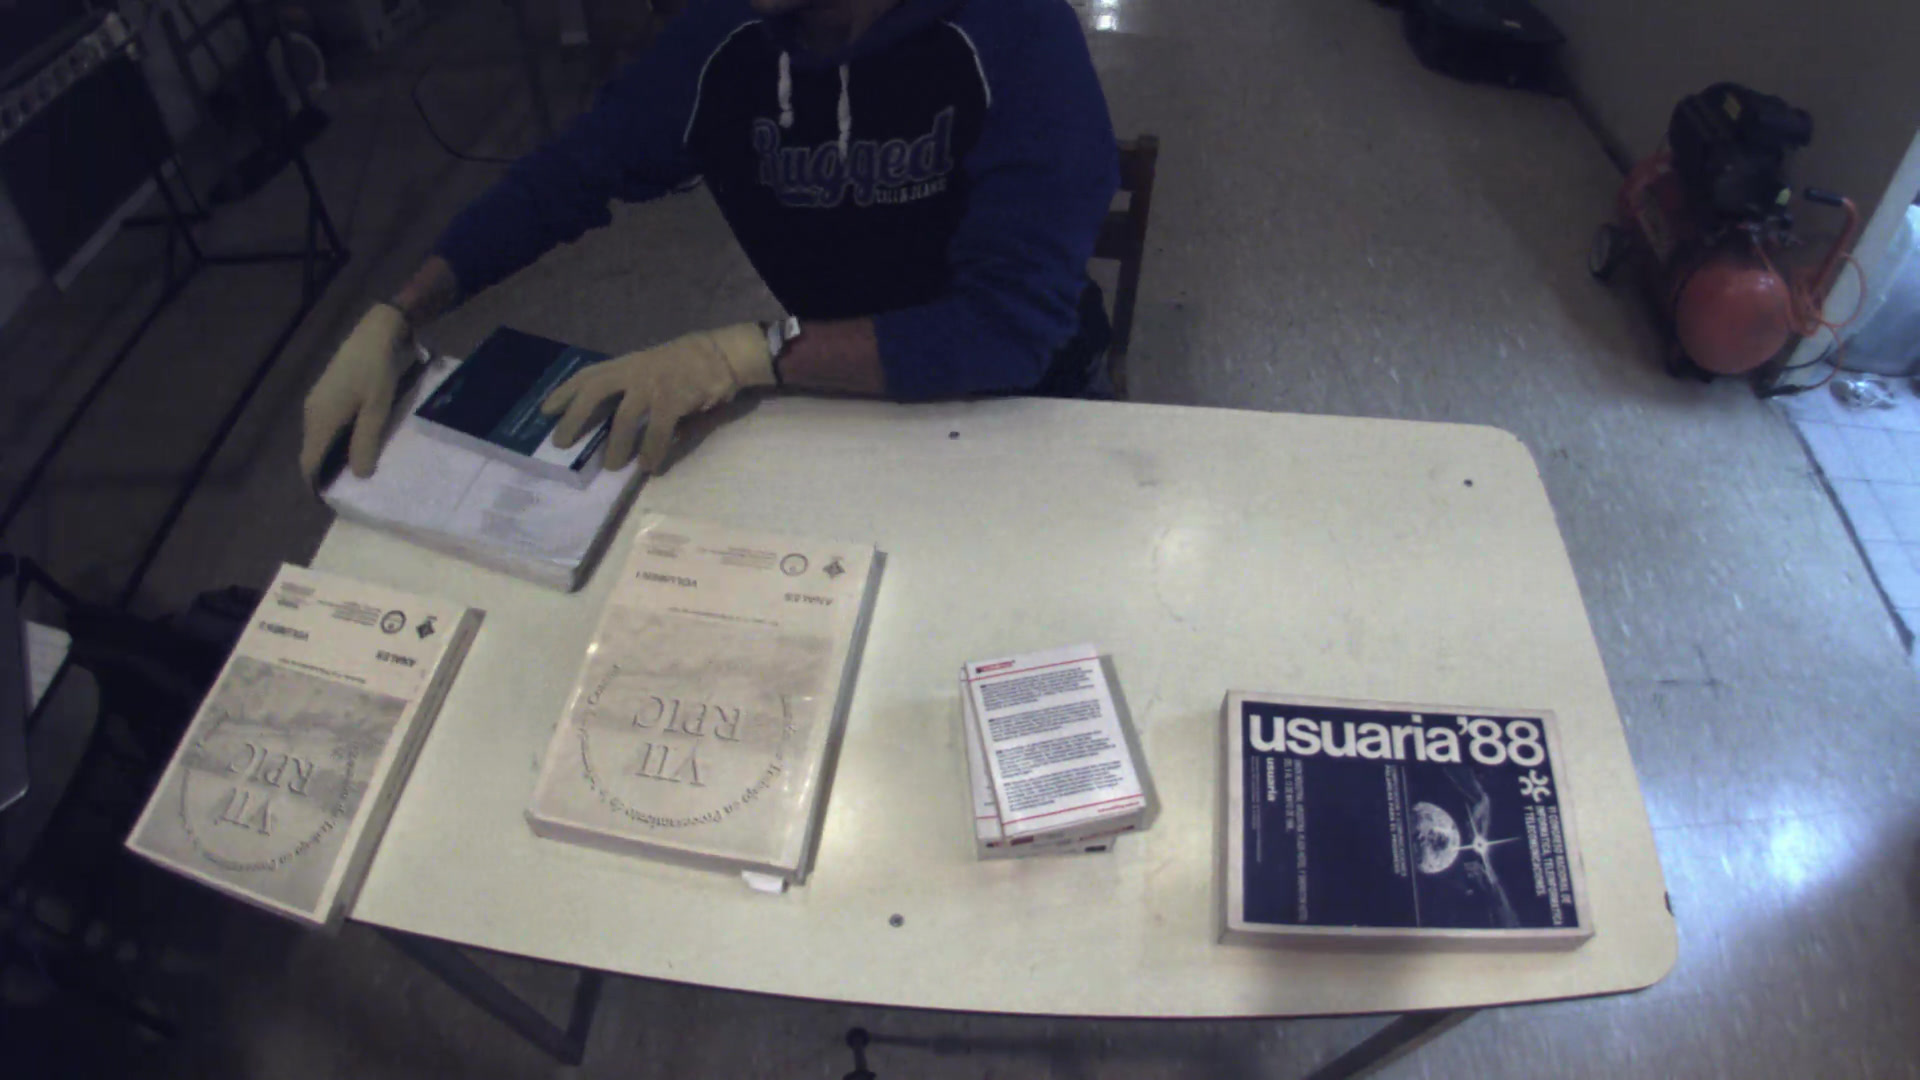hand: (516, 302, 774, 477), (294, 303, 431, 488)
